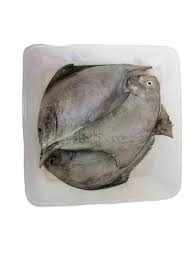Ikan Bawal: (31, 60, 133, 146)
